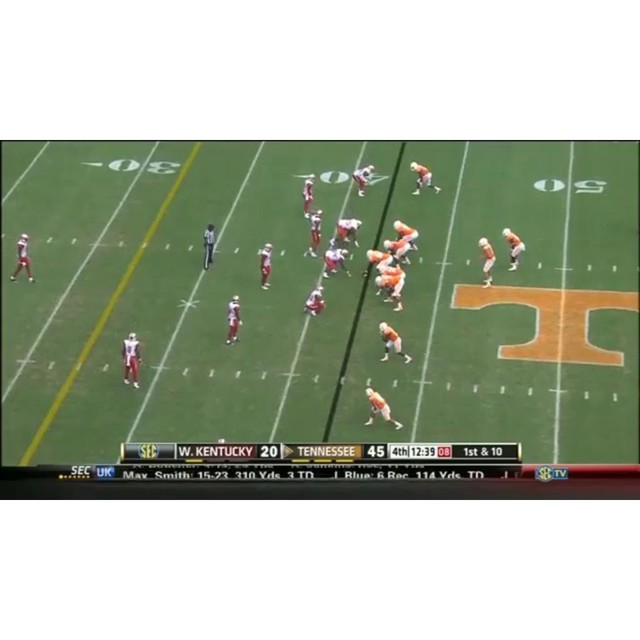american-football-player: (363, 384, 404, 431), (378, 321, 412, 364), (9, 232, 36, 284), (121, 331, 143, 389), (376, 272, 406, 313), (409, 161, 442, 196), (477, 237, 497, 288), (502, 228, 525, 272), (304, 208, 324, 257), (361, 249, 395, 277), (383, 238, 414, 268), (334, 218, 363, 250), (322, 248, 351, 279), (225, 294, 242, 346), (393, 219, 420, 251), (352, 164, 375, 197), (303, 284, 326, 317), (258, 242, 274, 289), (302, 175, 316, 217)
referee: (202, 222, 216, 271)
